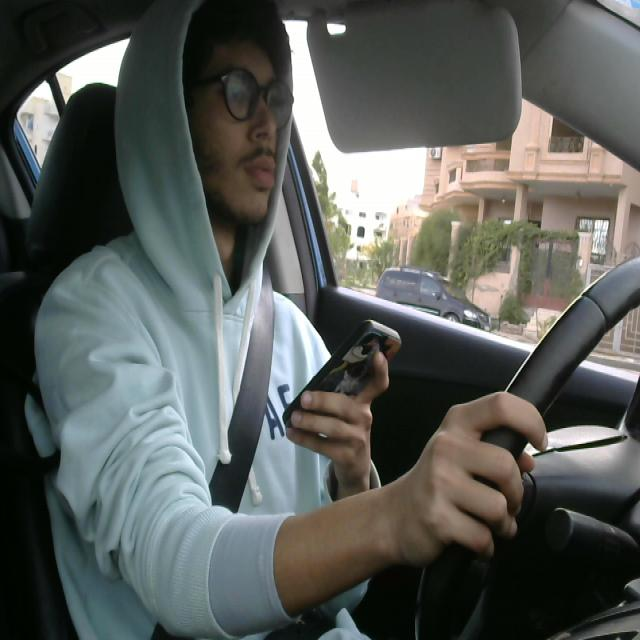mobile use: (280, 317, 408, 430)
